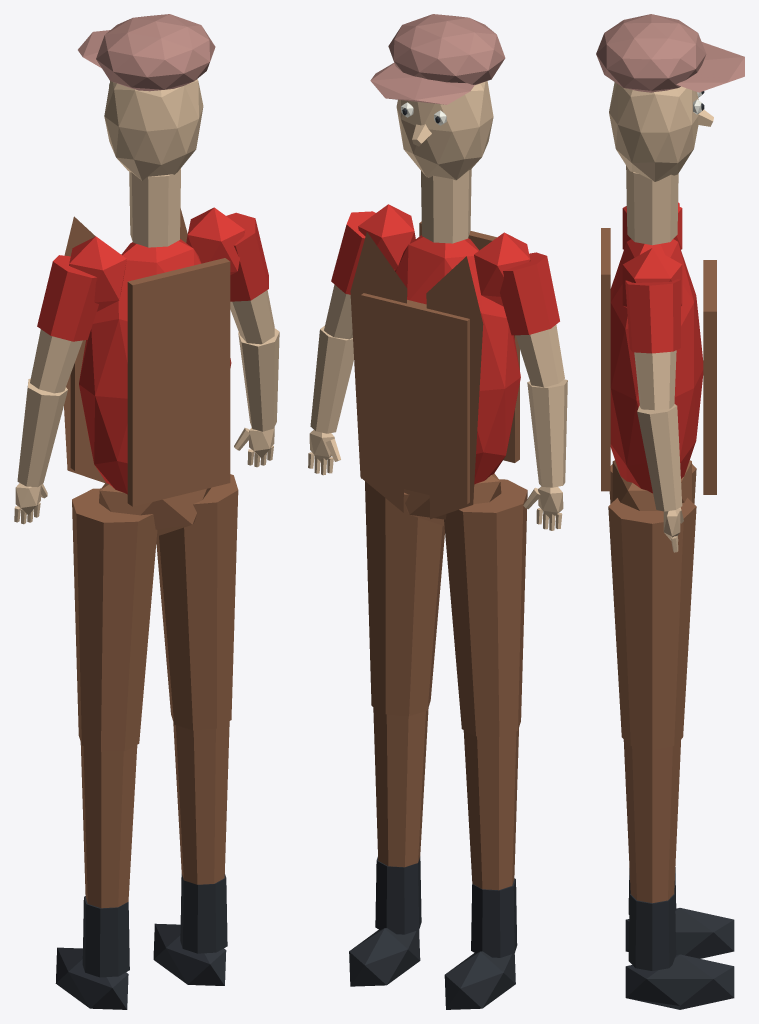
File: OutfitGunstoreClerc.fbx
3 renders of one model, left to right at view 1: azimuth 30°, elevation 25°; view 2: azimuth 150°, elevation 25°; view 3: azimuth 270°, elevation 25°, orthographic. The views are drawn at different scales.
Visible parts, largest first — view 1: VestBack, ThighLeft, ThighRight, Torso, CalfLeft, CalfRight, Face, HatCrown, SleeveLeft, Neck, BootTopLeft, ForearmSkinLeft (+13 smaller); view 2: LeatherApron, ThighLeft, ThighRight, Torso, CalfLeft, CalfRight, HatCrown, Face, VestFront.001, VestFront, SleeveLeft, ForearmSkinLeft (+15 smaller); view 3: ThighRight, Torso, CalfRight, Face, HatCrown, FootRight, SleeveRight, ForearmSkinRight, Neck, LeatherApron, BootTopRight, FootLeft (+7 smaller).
Part boxes in pixels (bbox=[...]): VestBack: bbox=[127, 258, 230, 506]; ThighLeft: bbox=[72, 488, 157, 751]; ThighRight: bbox=[156, 474, 238, 730]; Torso: bbox=[79, 239, 231, 494]; CalfLeft: bbox=[80, 742, 137, 908]; CalfRight: bbox=[173, 721, 229, 884]; Face: bbox=[104, 79, 203, 180]; HatCrown: bbox=[96, 14, 215, 91]; SleeveLeft: bbox=[37, 255, 98, 341]; Neck: bbox=[129, 168, 180, 247]; BootTopLeft: bbox=[82, 896, 129, 977]; ForearmSkinLeft: bbox=[17, 378, 67, 487]; LeatherApron: bbox=[361, 293, 473, 504]; ThighLeft: bbox=[444, 479, 527, 736]; ThighRight: bbox=[365, 481, 444, 716]; Torso: bbox=[395, 235, 520, 484]; CalfLeft: bbox=[463, 728, 518, 890]; CalfRight: bbox=[373, 707, 428, 867]; HatCrown: bbox=[388, 14, 505, 84]; Face: bbox=[396, 81, 493, 180]; VestFront.001: bbox=[426, 256, 483, 519]; VestFront: bbox=[350, 232, 407, 512]; SleeveLeft: bbox=[500, 252, 559, 335]; ForearmSkinLeft: bbox=[527, 379, 567, 487]; ThighRight: bbox=[608, 498, 696, 749]; Torso: bbox=[610, 239, 703, 493]; CalfRight: bbox=[623, 739, 681, 903]; Face: bbox=[609, 82, 698, 181]; HatCrown: bbox=[596, 14, 706, 92]; FootRight: bbox=[625, 954, 734, 1009]; SleeveRight: bbox=[625, 279, 680, 353]; ForearmSkinRight: bbox=[637, 404, 682, 511]; Neck: bbox=[626, 165, 678, 245]; LeatherApron: bbox=[703, 260, 716, 494]; BootTopRight: bbox=[628, 894, 676, 970]; FootLeft: bbox=[625, 908, 734, 958].
Size of the model in its own units: 0.4812 by 1.75 by 0.2451.
